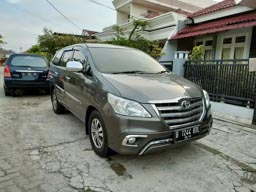plat: (175, 124, 200, 142)
